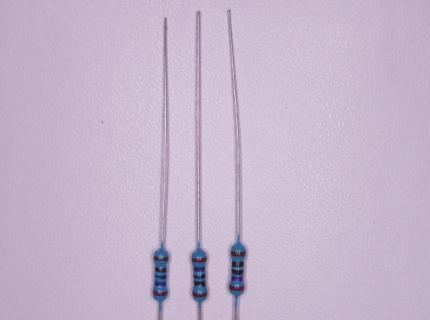Black band: (232, 261, 244, 268), (231, 269, 244, 275), (193, 273, 205, 279), (194, 281, 205, 287), (155, 267, 166, 272), (155, 274, 166, 279)
Brown band: (153, 256, 168, 261), (193, 292, 208, 297), (231, 251, 246, 256)
Red band: (229, 285, 244, 291), (153, 290, 167, 296), (192, 258, 206, 262)
Violet band: (155, 280, 166, 286), (231, 276, 243, 281), (194, 267, 205, 272)
